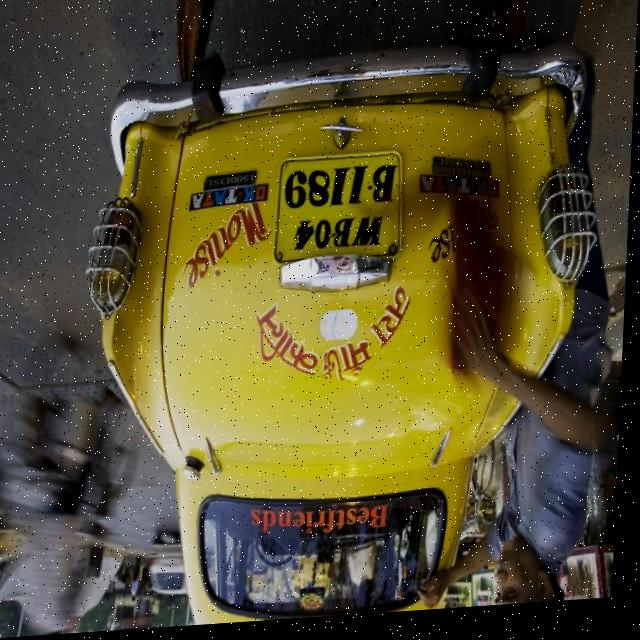plate: (277, 157, 409, 271)
